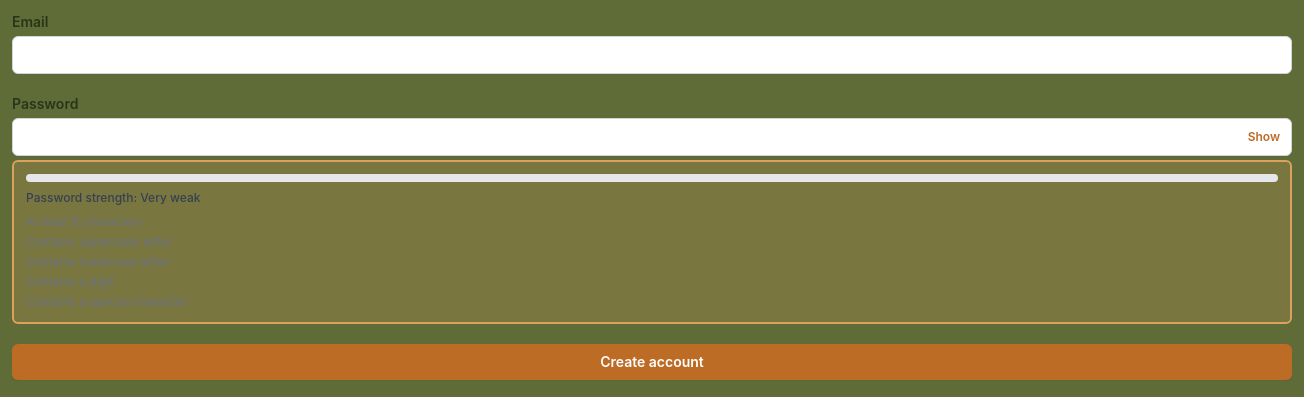
Test: AuthForm › password visibility toggle › should toggle button text from Show to Hide
What coordinates should you click on to do the following:
click the button "Show"
I would click on:
 (1264, 137)
Its box is [1248,118,1280,156].
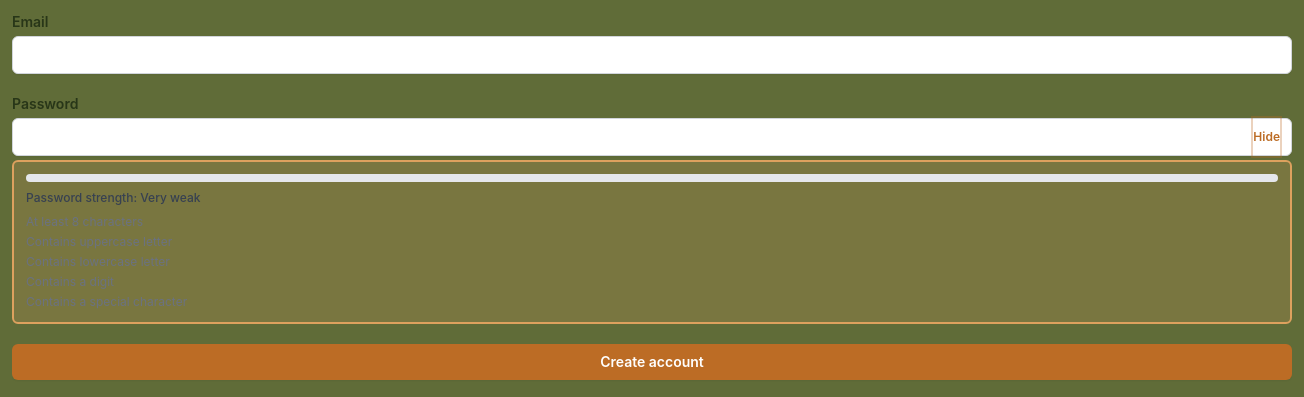
Expected: the button "Hide" is shown, [1253,118,1280,156]
